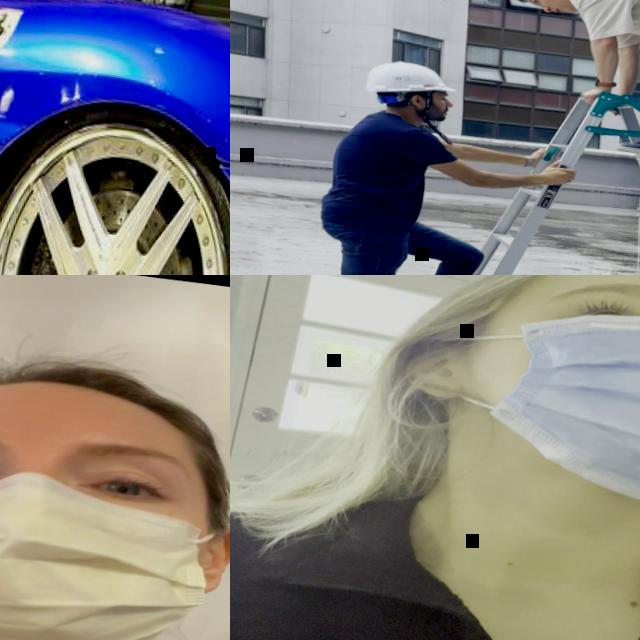Hardhat: (363, 56, 456, 105)
Mask: (417, 280, 640, 533), (0, 467, 214, 640)
NO-Hardhat: (0, 340, 222, 466), (464, 275, 640, 318)
NO-Mask: (426, 98, 452, 125), (542, 0, 579, 18)
NO-Safety Vest: (230, 468, 640, 640), (312, 103, 436, 248)
Person: (230, 275, 640, 640), (0, 306, 230, 640), (286, 49, 586, 275), (483, 0, 640, 179)
vehicle: (0, 0, 230, 275)
